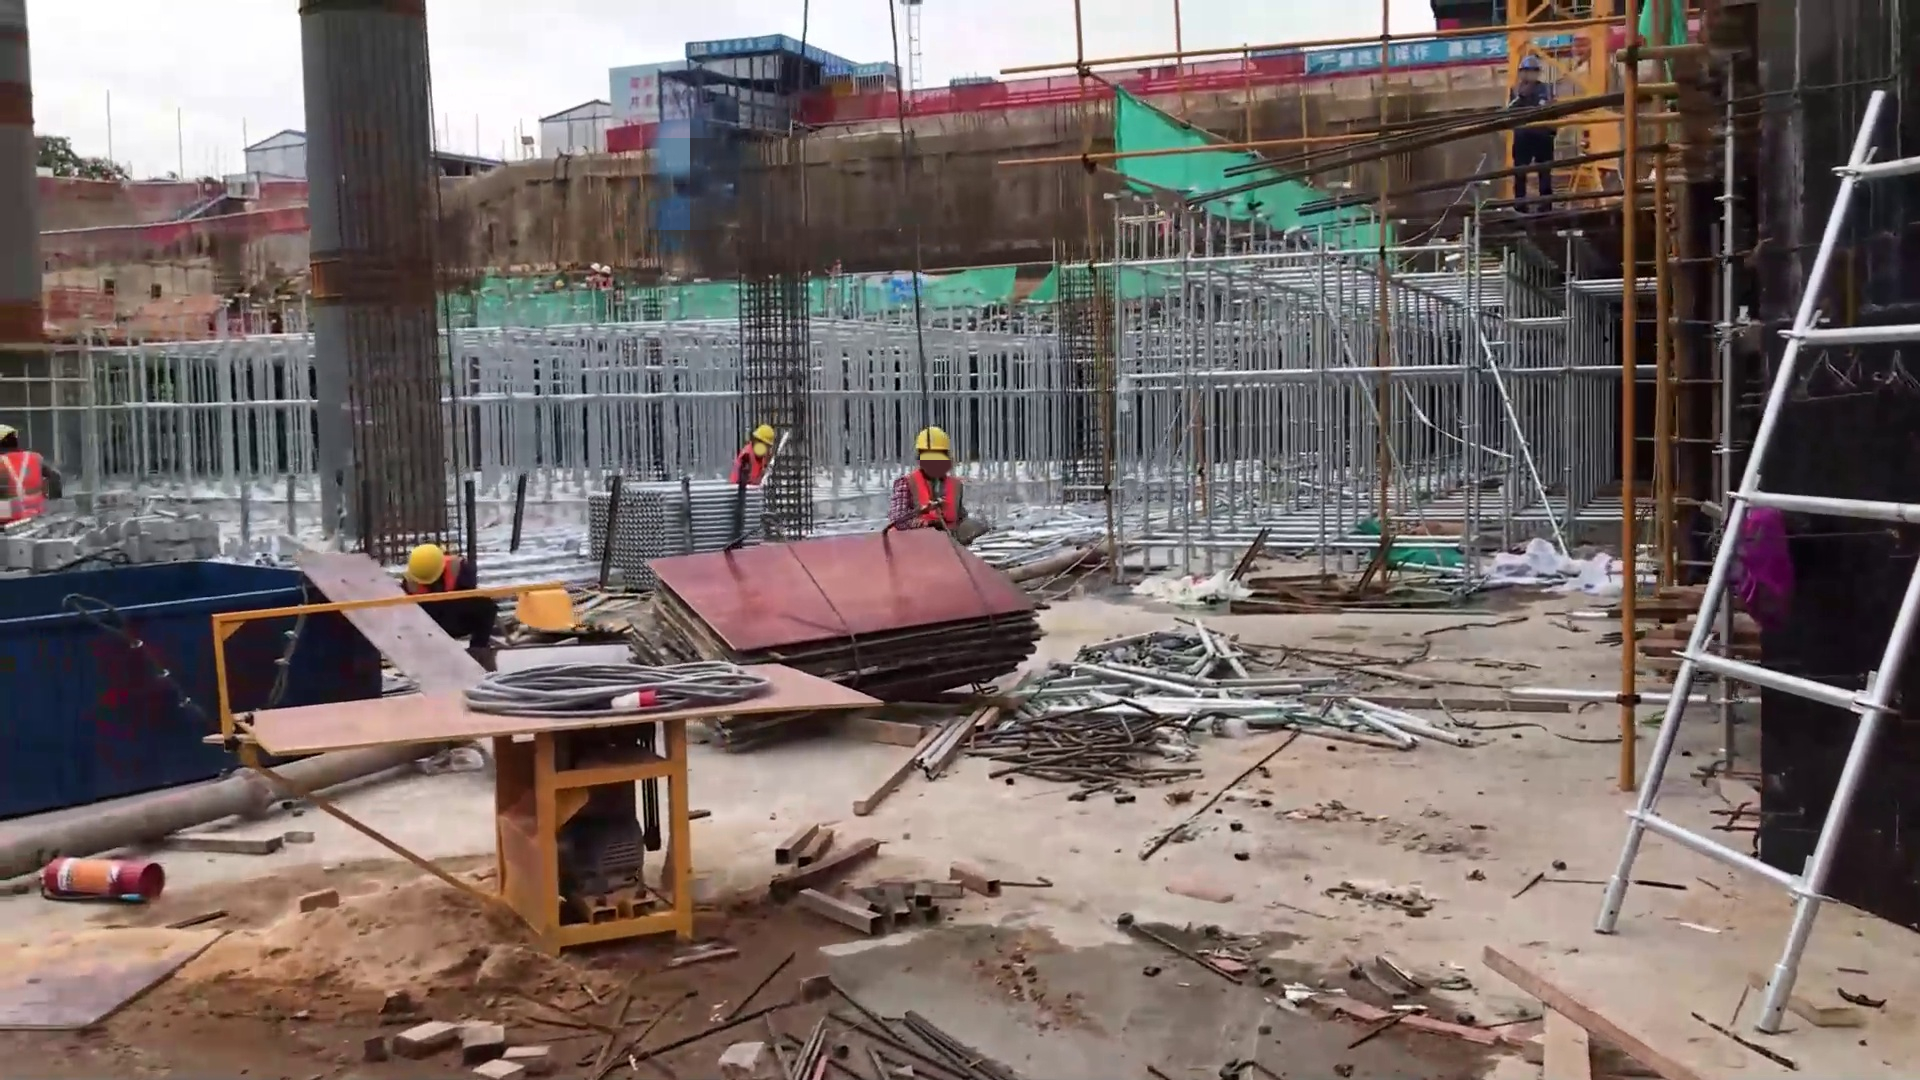board: (633, 528, 1043, 693)
cutter: (204, 578, 886, 959)
ebox: (1563, 107, 1625, 210)
helmet: (400, 540, 446, 587), (911, 424, 955, 454), (750, 420, 776, 448), (1516, 55, 1542, 73), (591, 262, 602, 274), (600, 264, 611, 276)
hopper: (3, 569, 384, 815)
person: (888, 424, 988, 552), (393, 541, 495, 649), (1507, 53, 1562, 214), (1, 424, 66, 524), (728, 420, 781, 488)
scaffold: (586, 479, 771, 594)
slogan: (685, 33, 904, 79), (1302, 29, 1508, 77), (626, 71, 698, 112)
vest: (897, 467, 961, 535), (7, 448, 52, 520), (728, 441, 771, 485)
